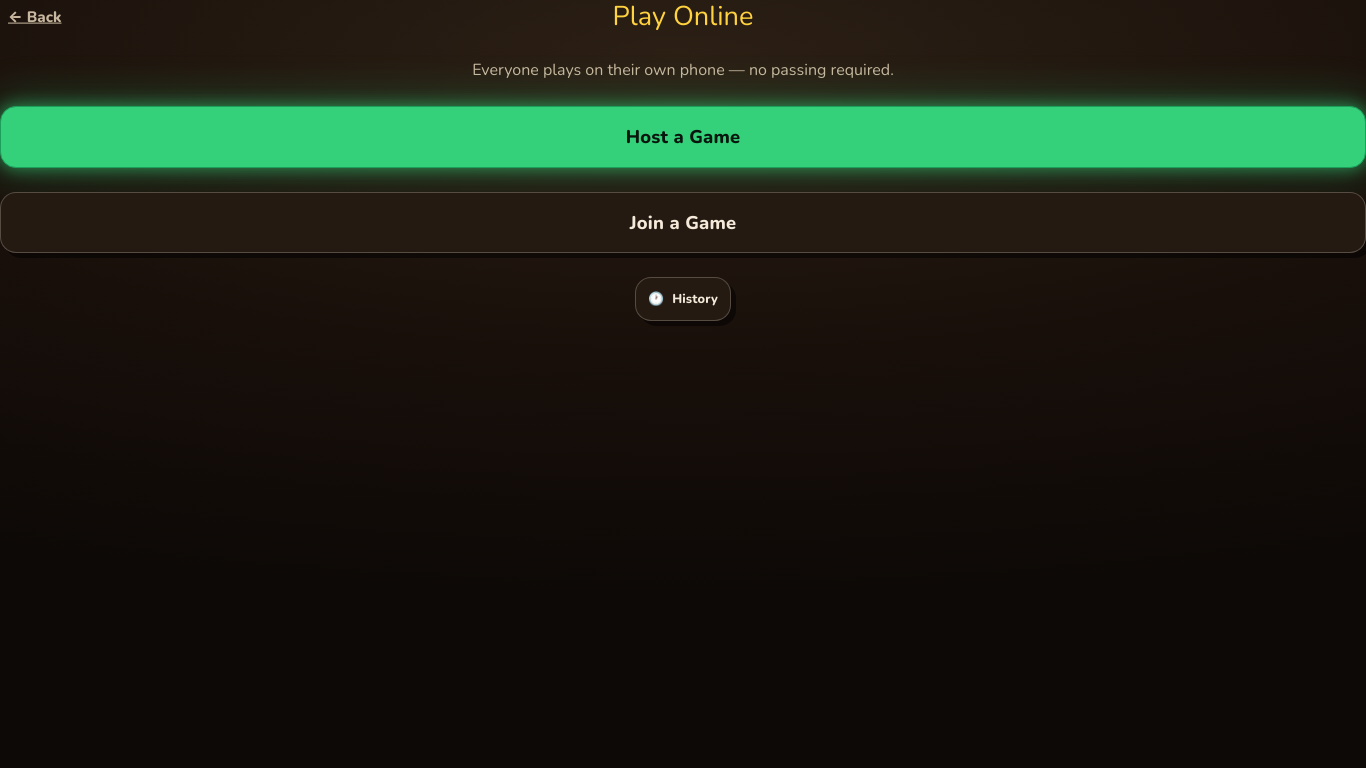
MultiplayerHomeScreen › opens and closes MatchHistorySheet when History button is clicked
Click the button "🕐 History" at (683, 299), box [635,277,731,321]
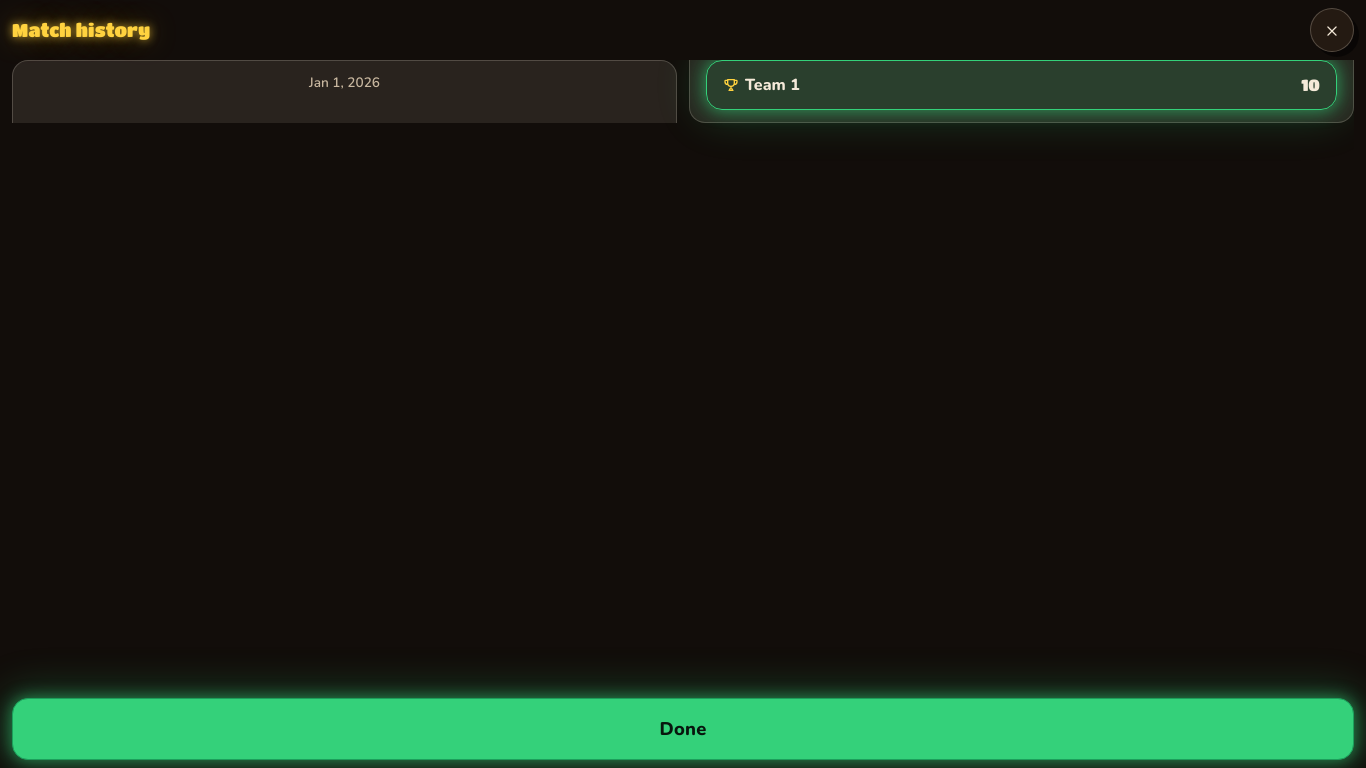
Check: the text "Match history" is shown, box [12,16,150,44]
Click the button named "close match history" at (1332, 30), box [1310,8,1354,52]
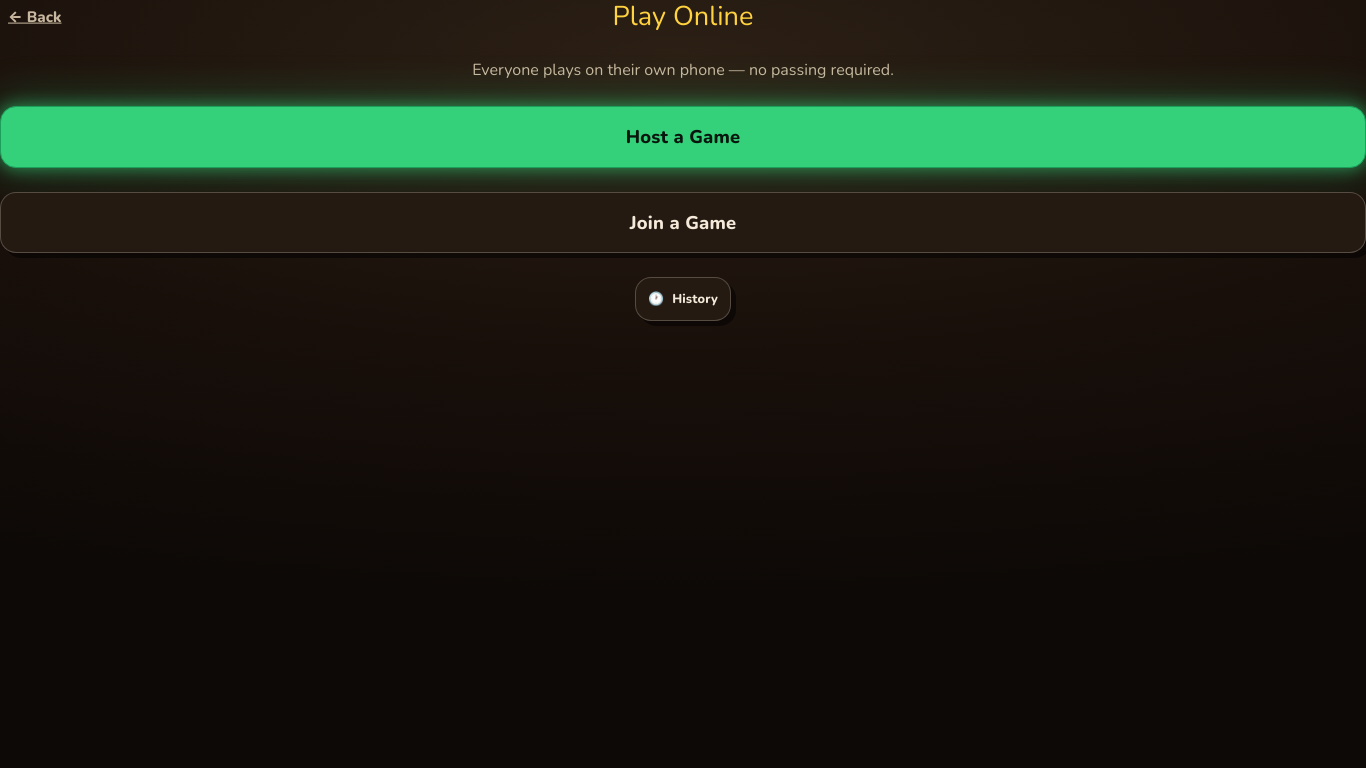
Check: the text "Match history" is gone
